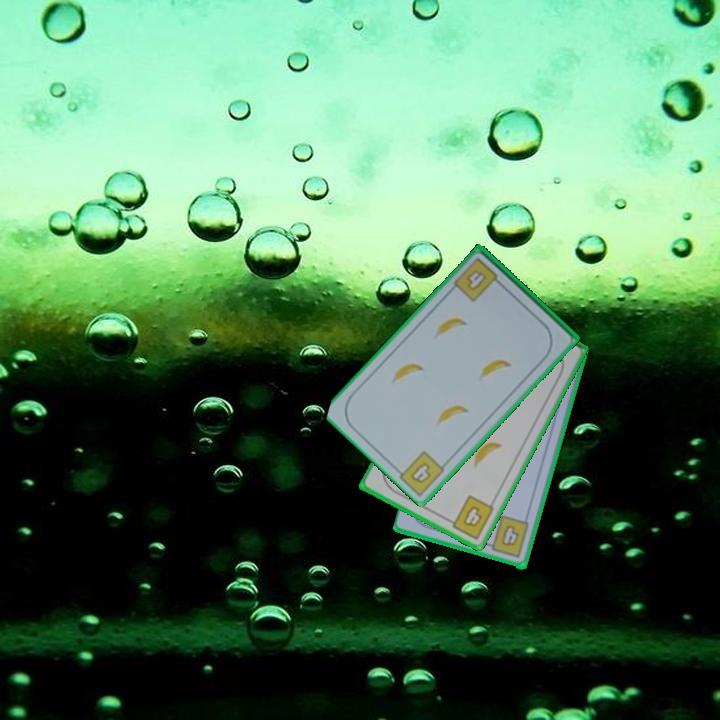4b: (450, 254, 506, 305), (443, 491, 497, 542), (482, 513, 532, 561), (407, 459, 434, 487)
